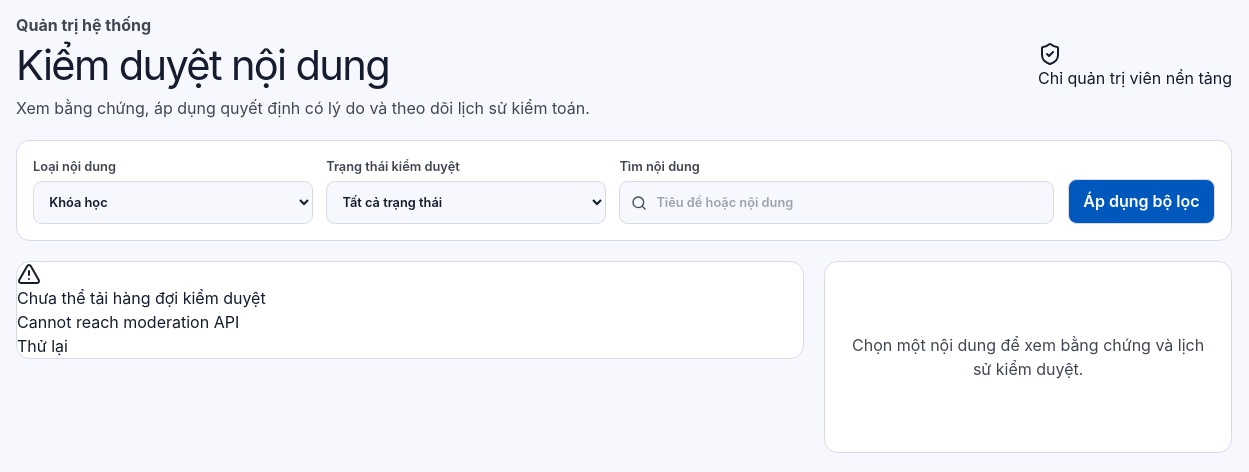
Test: AdminModerationPage › shows list failures with retry and an explicit empty state
Expected: the message shows "Cannot reach moderation API", [17,312,239,332]
Click the button "Thử lại".
click(42, 346)  # box [17,334,68,358]
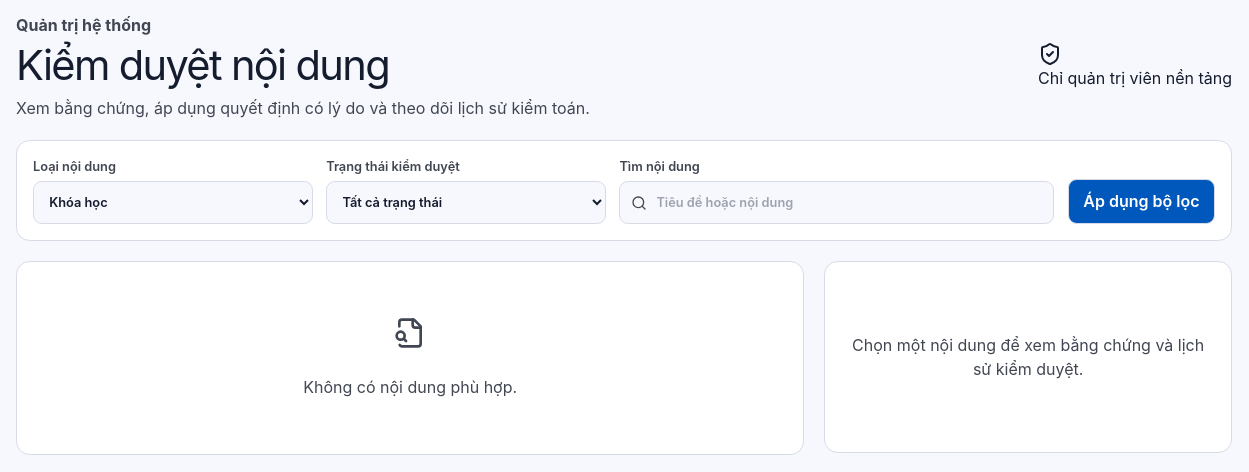
Now the message reads "Không có nội dung phù hợp.", box [303,377,517,397]
